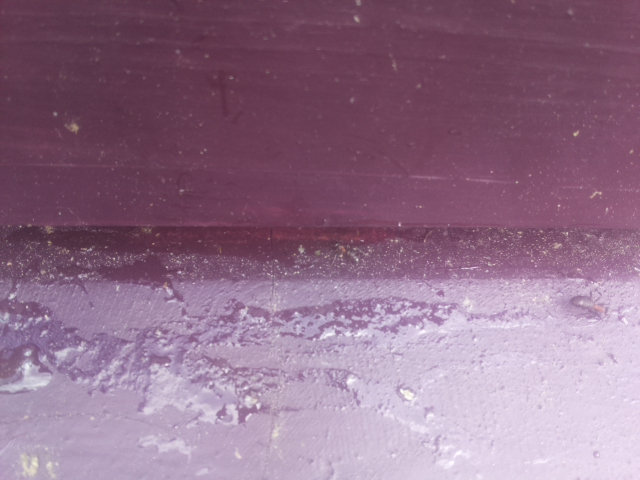ant: (568, 291, 614, 322)
